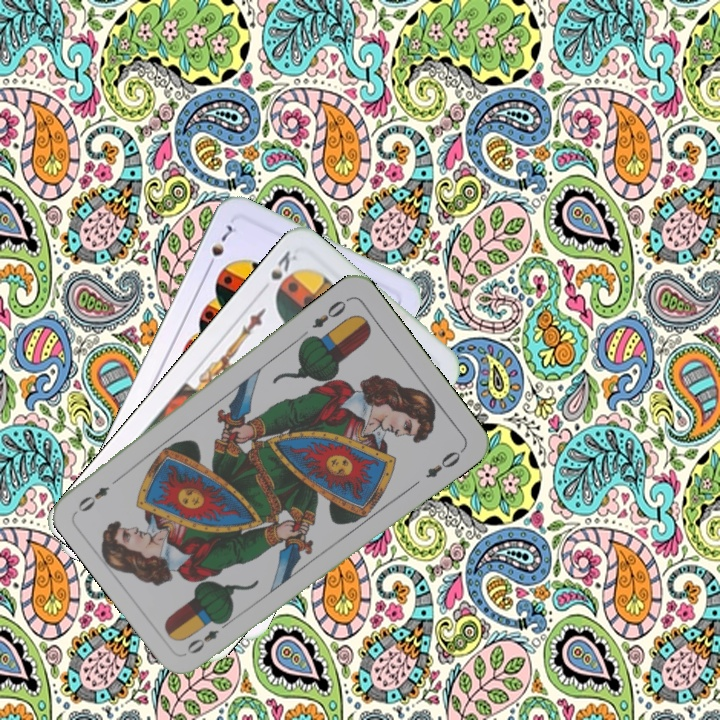EO: (182, 615, 233, 657), (308, 293, 352, 331)
S7: (202, 221, 235, 273)
SK: (256, 246, 300, 296)
